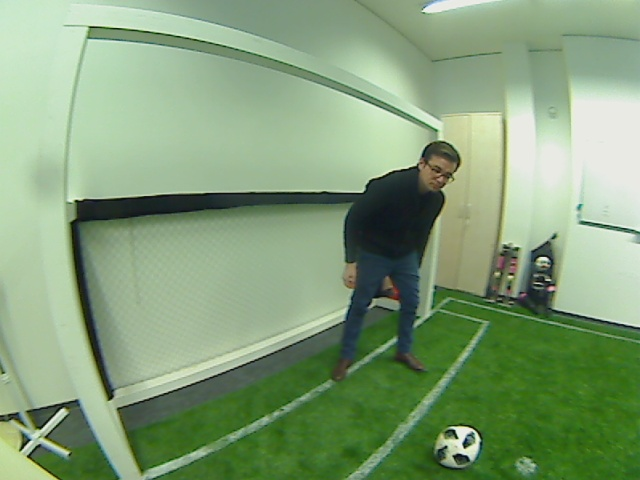ball: (432, 424, 482, 468)
